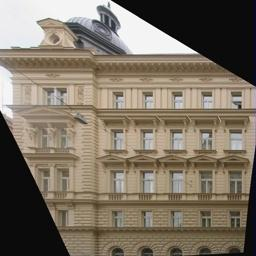building: (0, 36, 256, 256)
